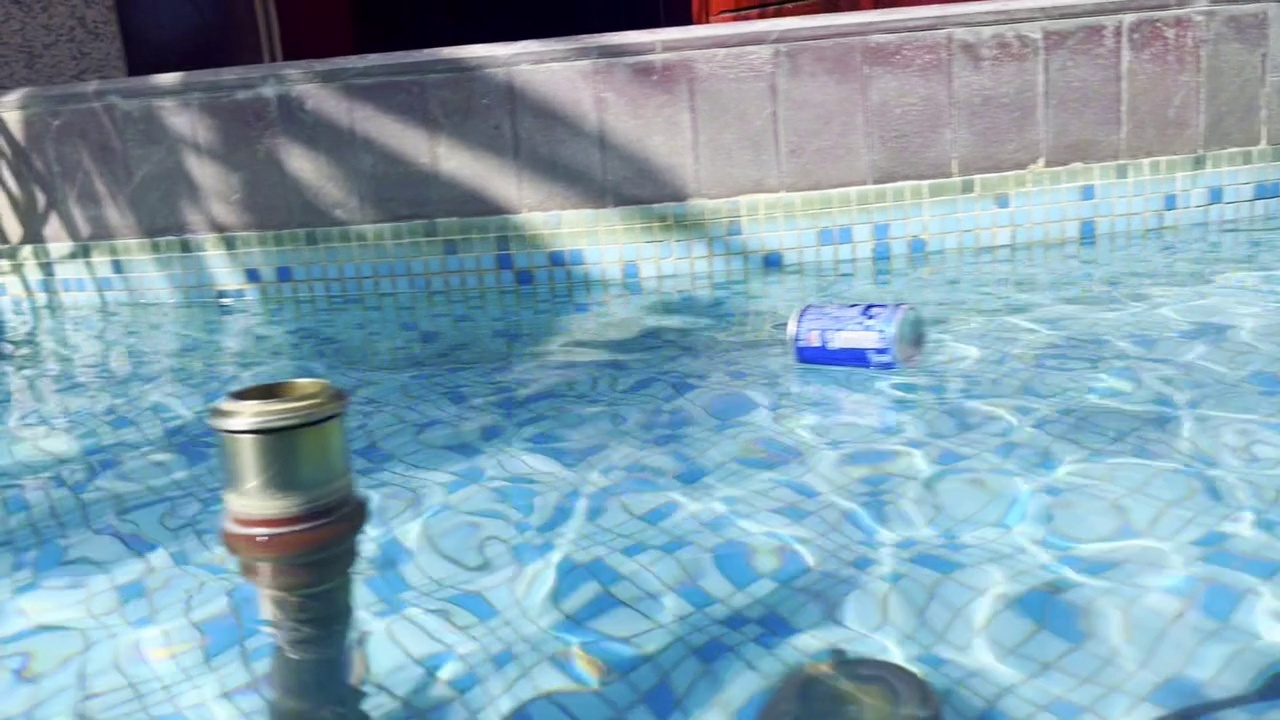debris: (779, 293, 935, 380)
